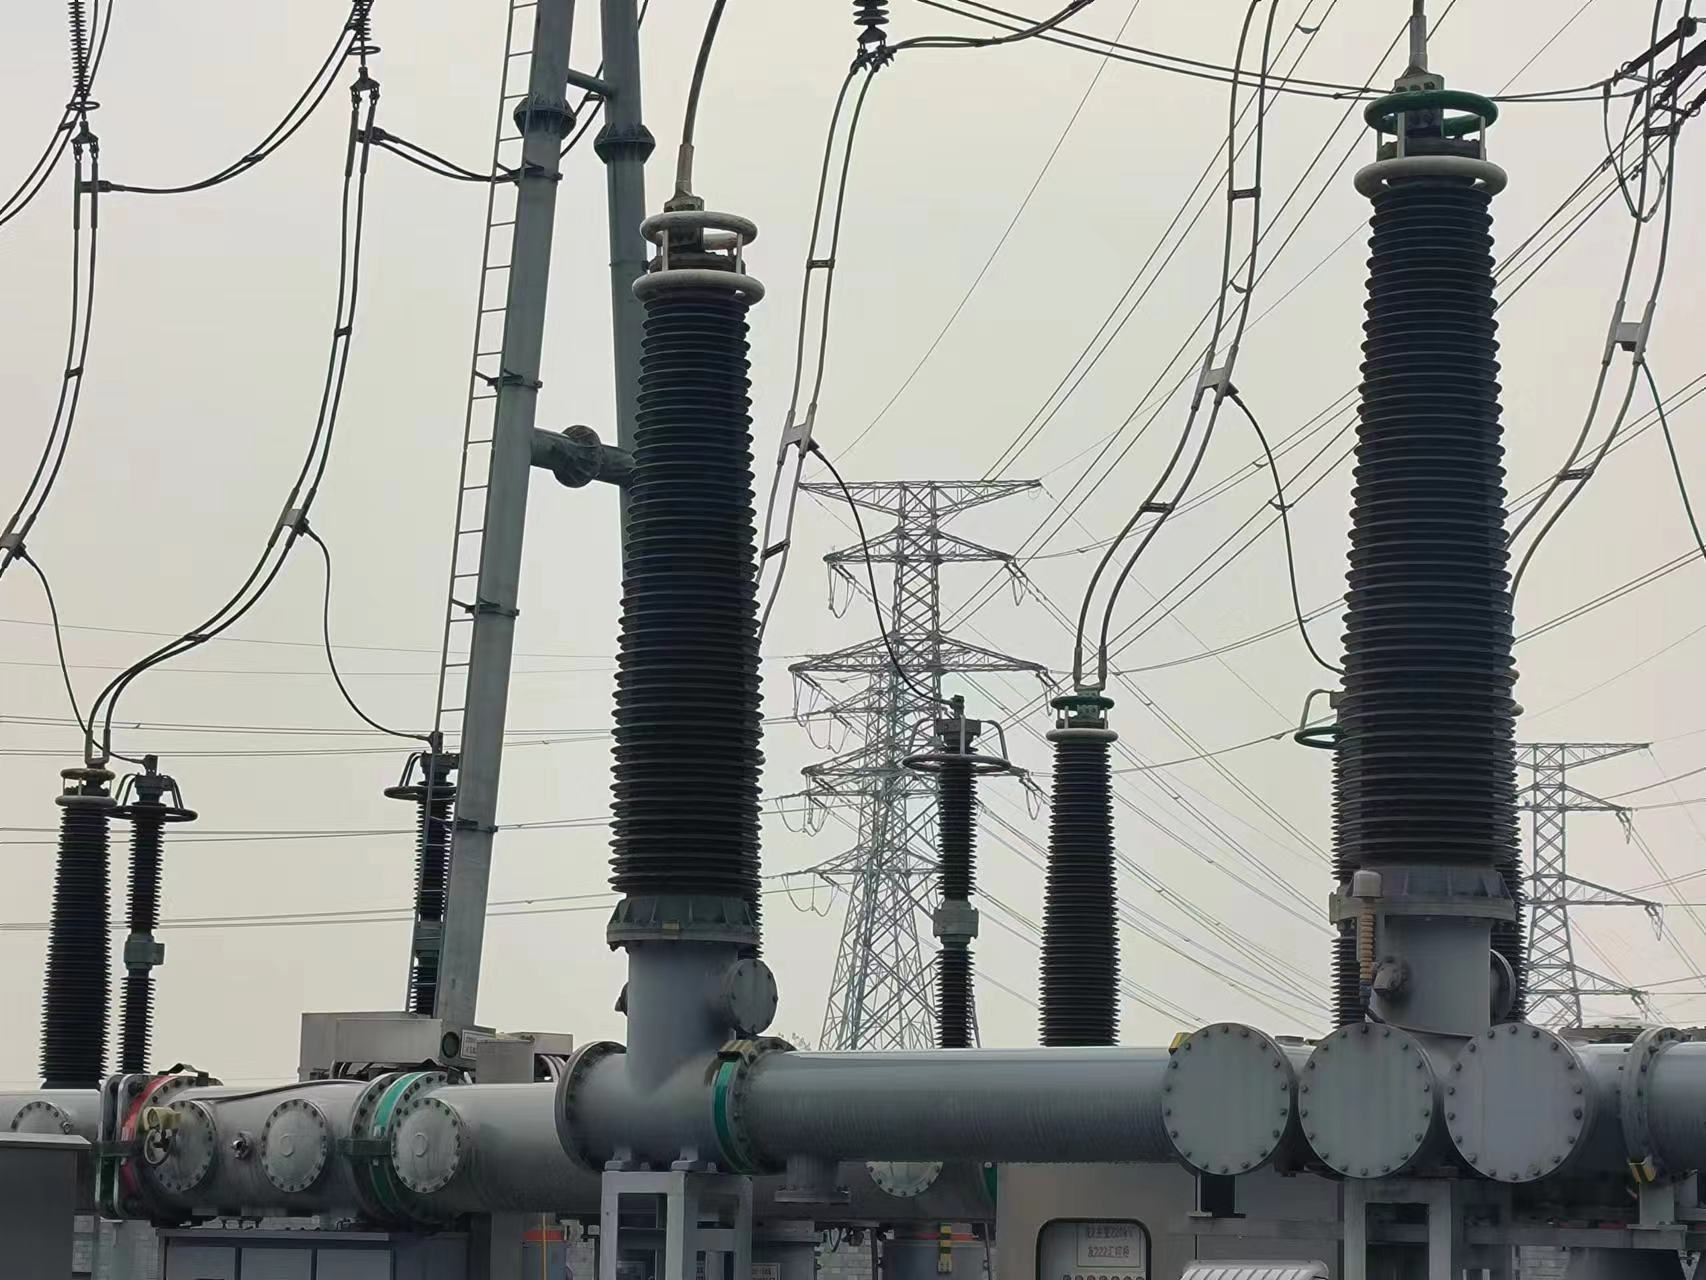Arrester: (899, 699, 1014, 1050), (109, 762, 199, 1074)
Voltage transformer: (1332, 94, 1531, 871), (605, 203, 769, 917), (1041, 692, 1131, 1051), (40, 765, 117, 1093)
